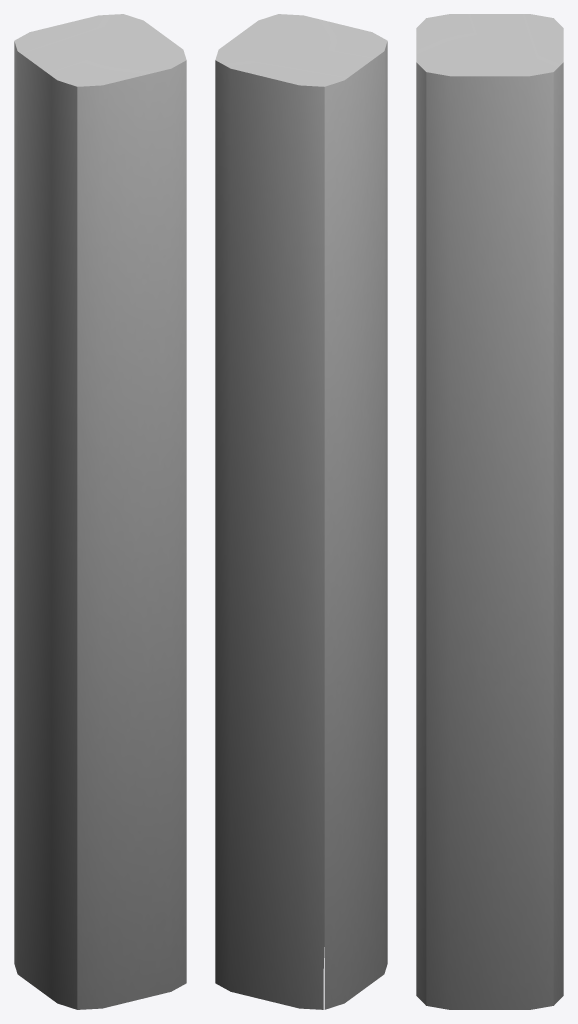
The model's file is Mod_Pillar_02.fbx.
3 renders of one model, left to right at view 1: azimuth 30°, elevation 25°; view 2: azimuth 150°, elevation 25°; view 3: azimuth 270°, elevation 25°, orthographic.
Parts seen in each view (by area): view 1: Mod_Pillar_02; view 2: Mod_Pillar_02; view 3: Mod_Pillar_02.
Part boxes in pixels (box(x1,y1,x2,y2)): Mod_Pillar_02: box(14, 14, 186, 1009); Mod_Pillar_02: box(215, 14, 387, 1009); Mod_Pillar_02: box(416, 14, 563, 1009).
Bounding box in the file's own units: 30 × 210 × 30.
